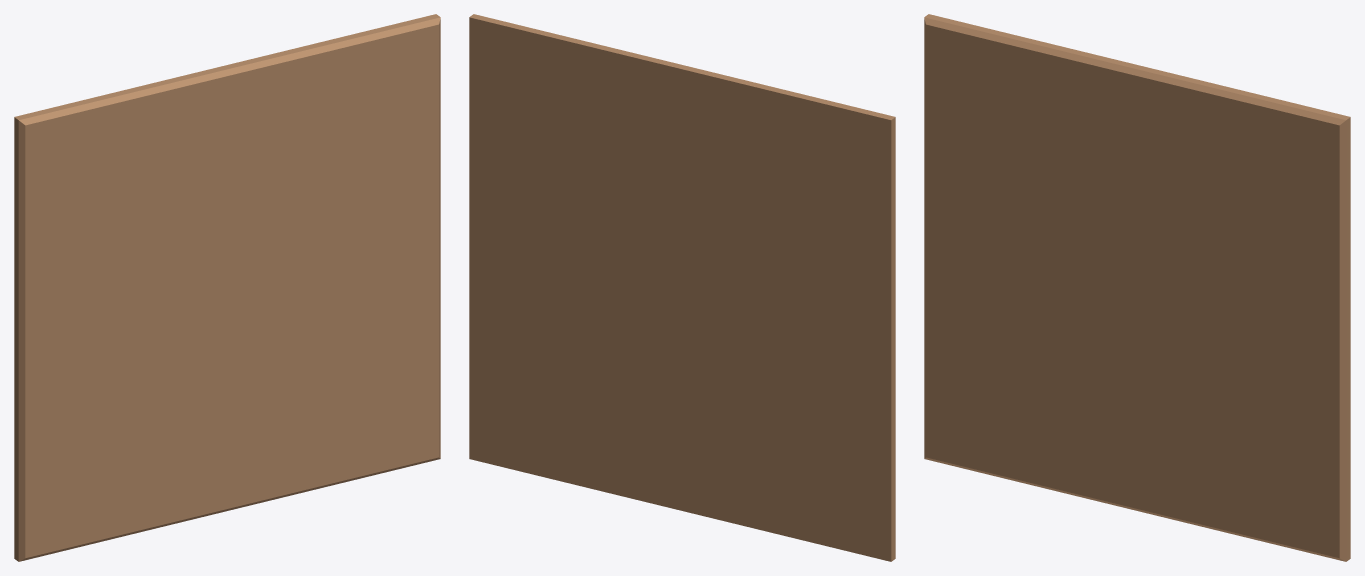
The model's file is Int_KitchenDecoration01_1.fbx.
3 renders of one model, left to right at view 1: azimuth 30°, elevation 25°; view 2: azimuth 150°, elevation 25°; view 3: azimuth 330°, elevation 25°, orthographic.
Visible parts, largest first — view 1: Int_KitchenDecoration01_1; view 2: Int_KitchenDecoration01_1; view 3: Int_KitchenDecoration01_1.
Part boxes in pixels (x1,y1,x2,y2): Int_KitchenDecoration01_1: [14, 14, 440, 561]; Int_KitchenDecoration01_1: [469, 14, 895, 561]; Int_KitchenDecoration01_1: [924, 14, 1350, 561].
Size of what is drawn, in the model's own units: 87.5 by 2.5 by 87.5.
